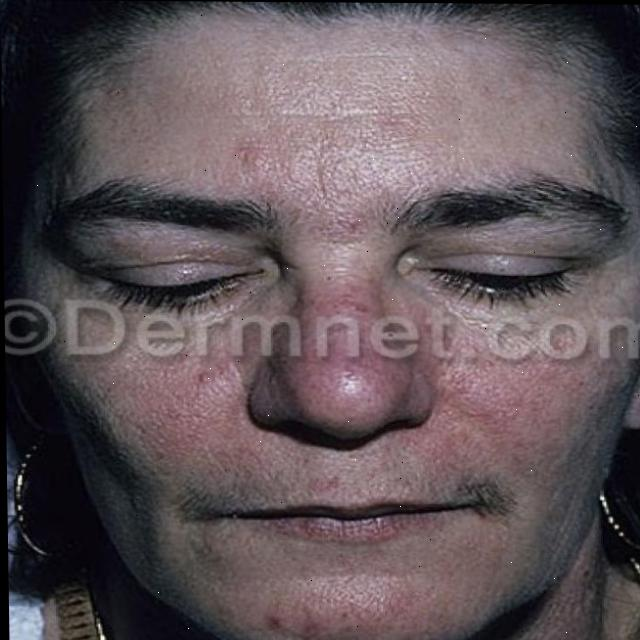Rosacea: (124, 285, 574, 451), (257, 576, 458, 640)
